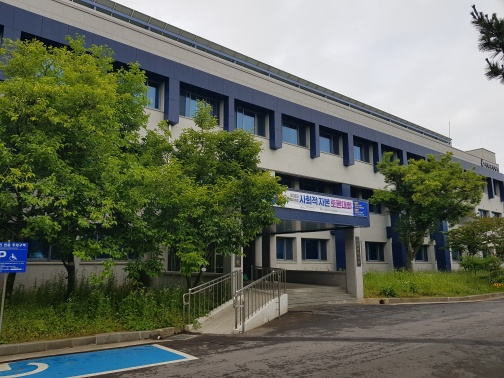College of Social Sciences: (92, 9, 504, 299), (246, 180, 383, 306), (265, 90, 385, 173)
